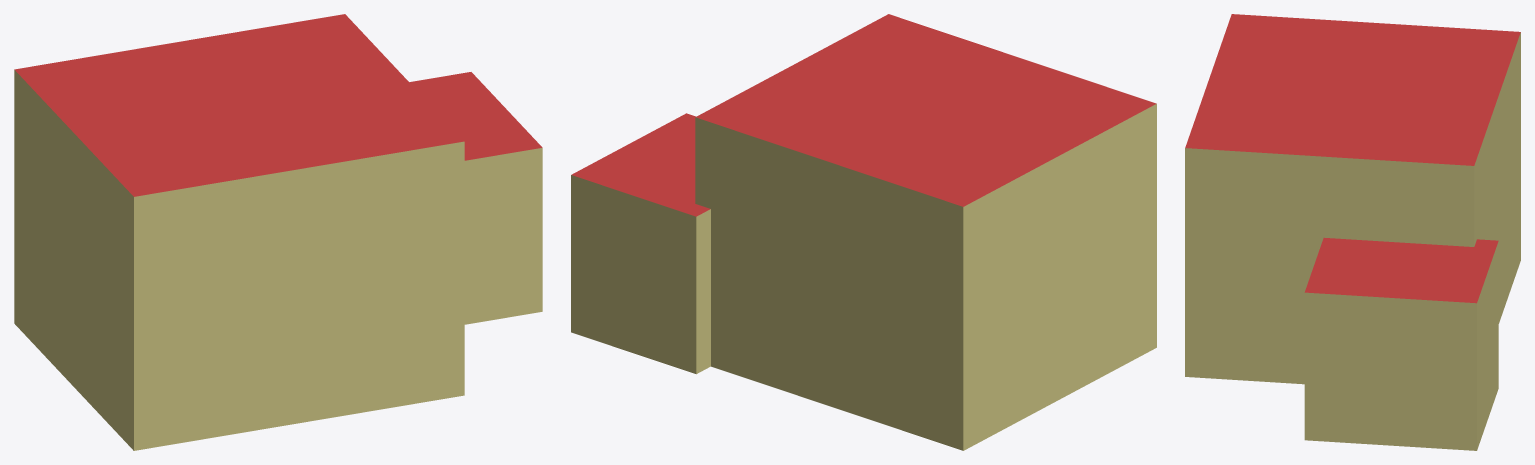
3 renders of one model, left to right at view 1: azimuth 30°, elevation 25°; view 2: azimuth 150°, elevation 25°; view 3: azimuth 270°, elevation 25°, orthographic. The views are drawn at different scales.
Bounding box in the file's own units: 16.67 × 11.36 × 8.54.
